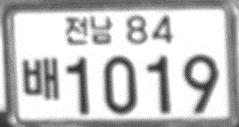0: (103, 55, 137, 113)
1: (146, 54, 173, 114), (65, 55, 90, 116)
4: (150, 13, 174, 44)
8: (125, 13, 148, 45)
9: (183, 52, 219, 114)
배: (21, 55, 60, 100)
전남_H: (64, 14, 113, 45)
